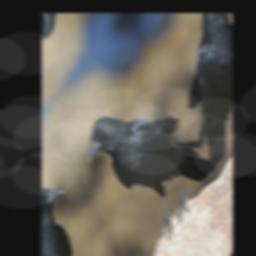Crow: (76, 55, 221, 256)
